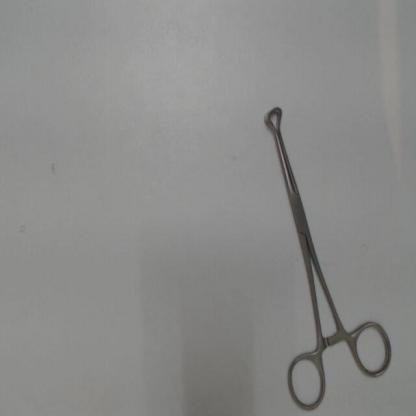Babcock Tissue Forceps: (260, 99, 397, 413)
